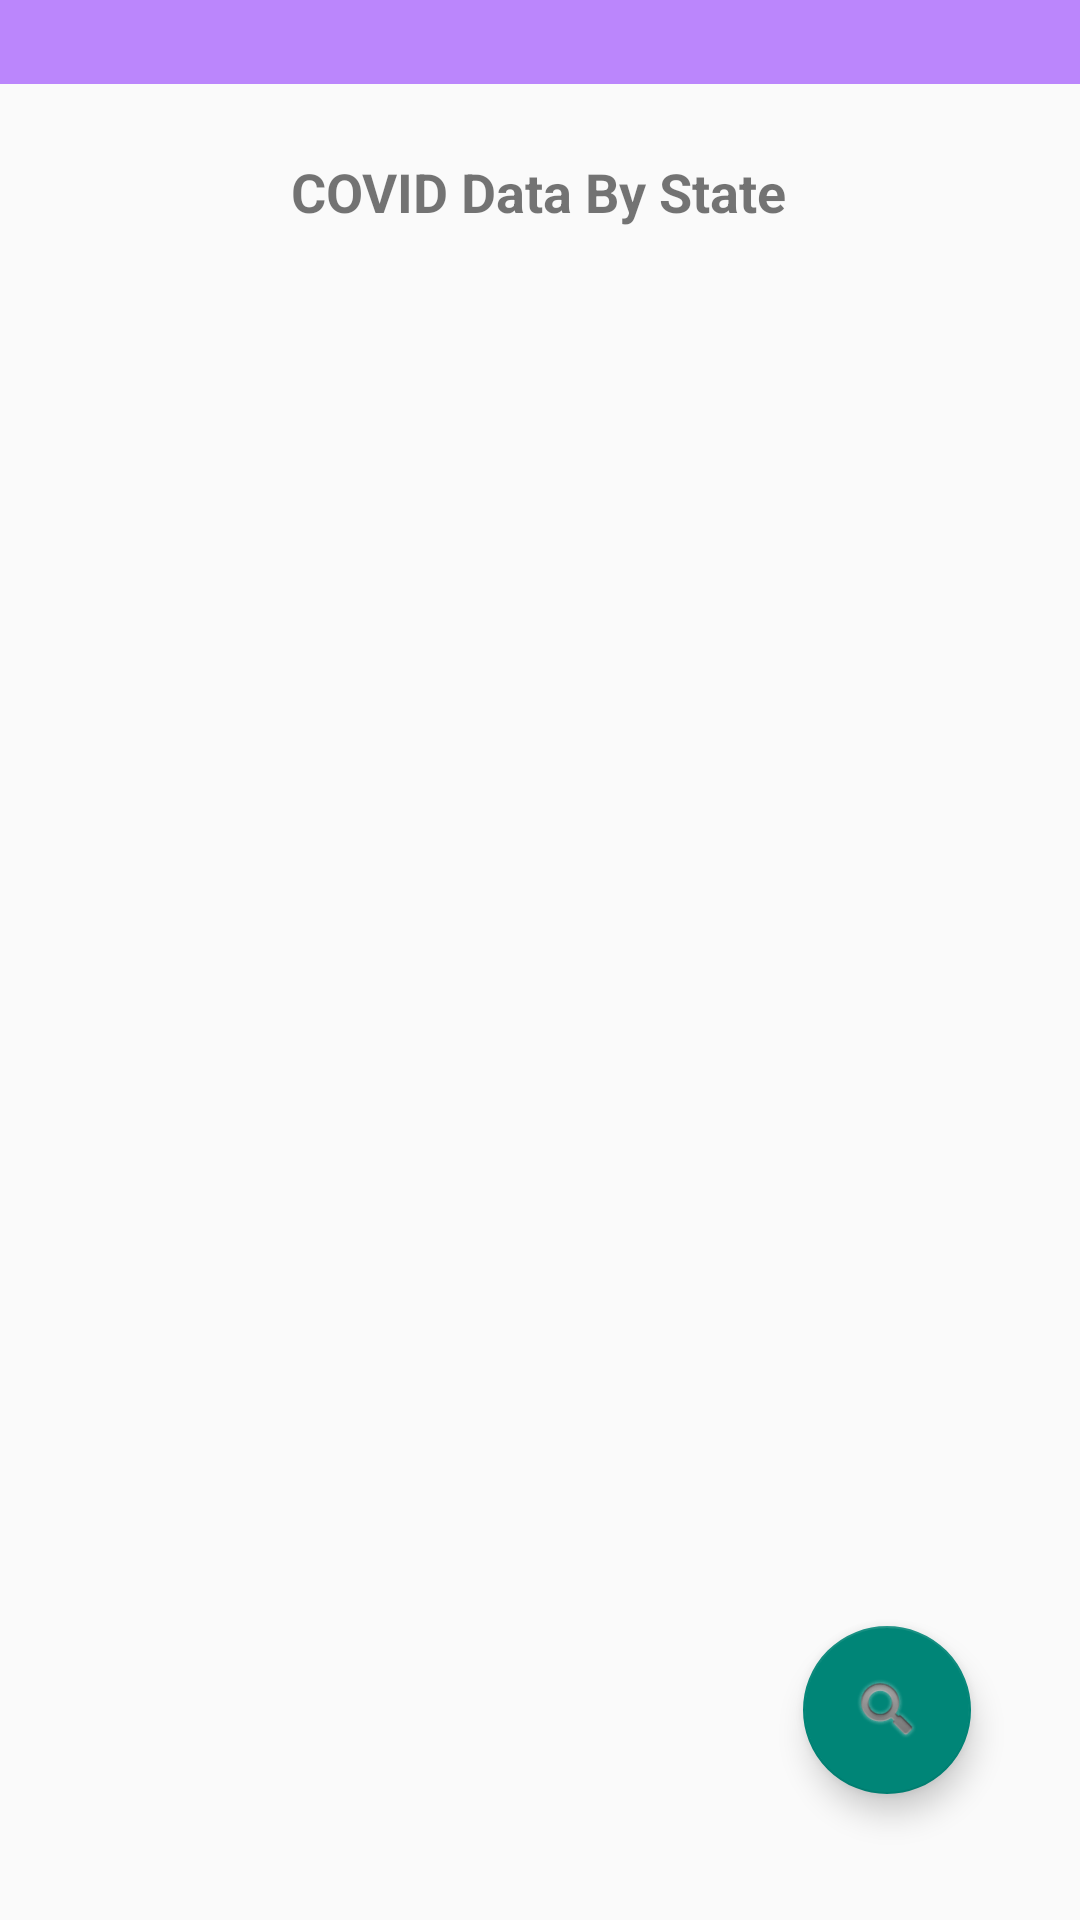

Where to tap for icons on this 1080w x 1920h app screen, as point (x, y):
search category: point (887, 1710)
